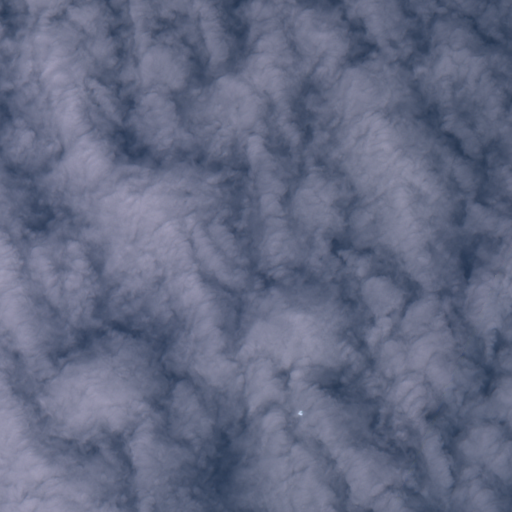Iceberg: (298, 411, 302, 415)
